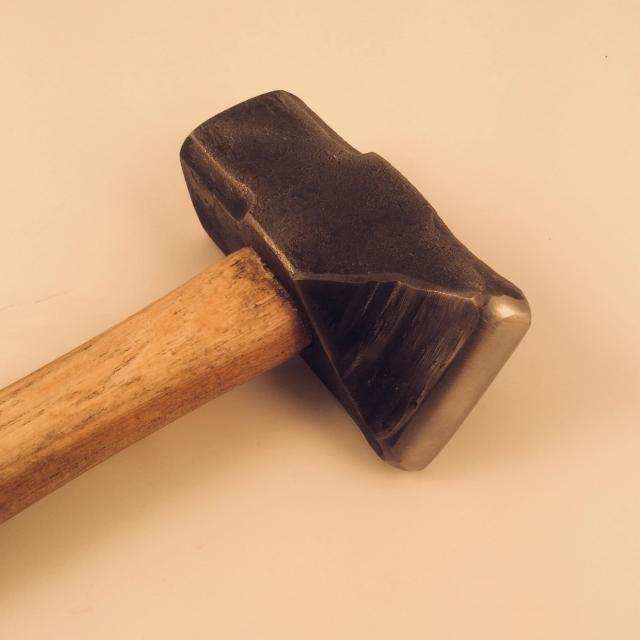hammer: (0, 78, 543, 532)
